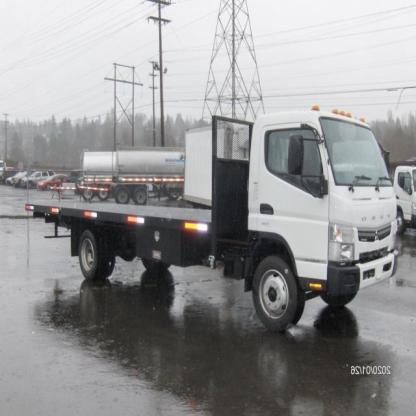truck: (26, 110, 399, 333)
